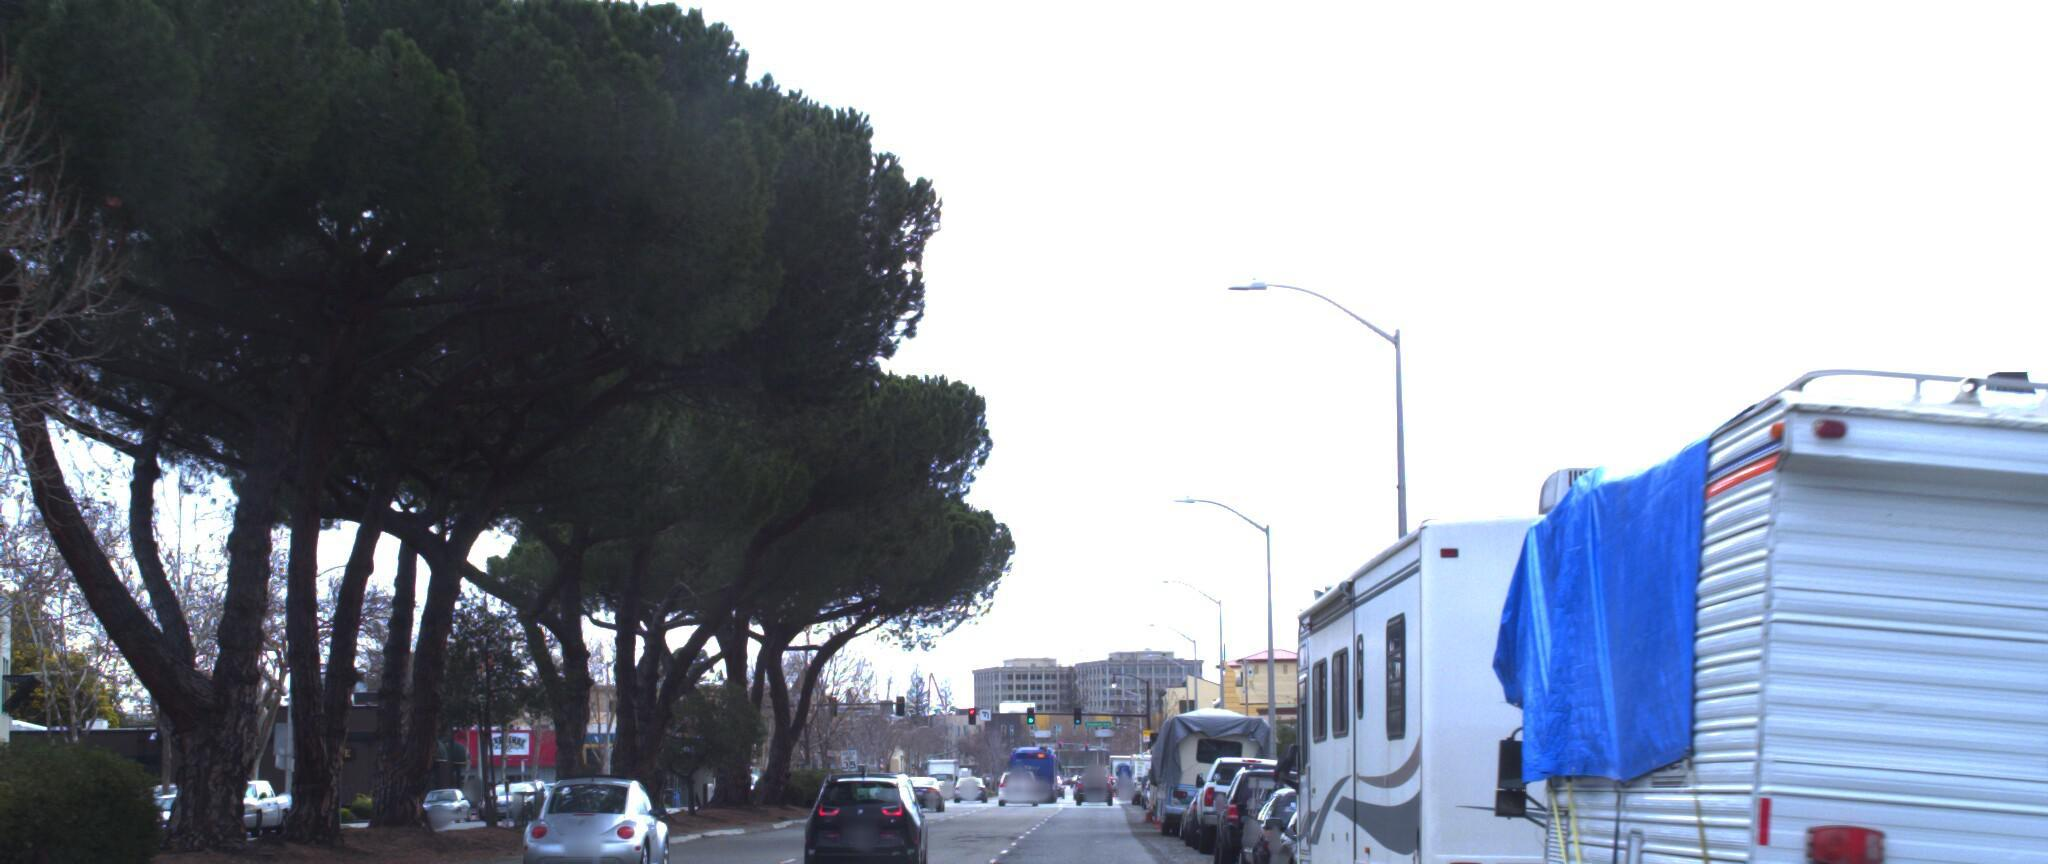bus: (1273, 499, 1895, 864), (1148, 696, 1268, 827)
car: (524, 760, 680, 864), (1230, 766, 1390, 864), (793, 757, 936, 864)
other_vehicle: (1458, 301, 2048, 864)
